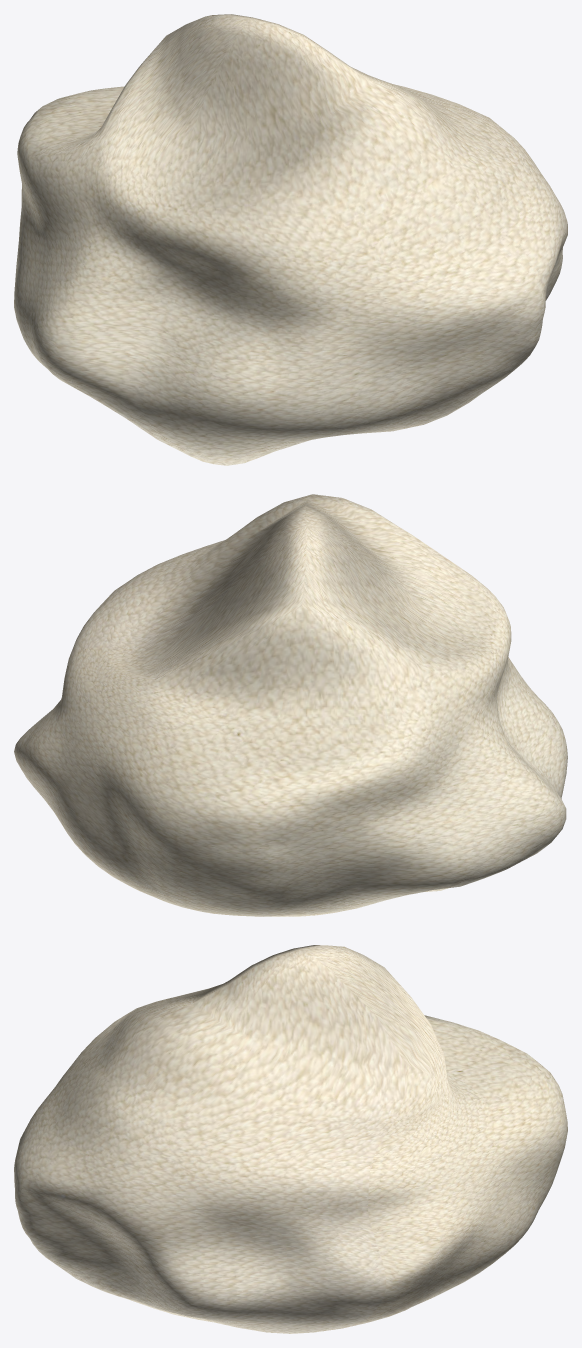
3 views of the same model, one above another, from view 1: azimuth 30°, elevation 25°; view 2: azimuth 150°, elevation 25°; view 3: azimuth 270°, elevation 25° (orthographic). The views are drawn at different scales.
Parts seen in each view (by area): view 1: mian qiu; view 2: mian qiu; view 3: mian qiu.
Part boxes in pixels (left/top/right/bottom): mian qiu: left=14, top=14, right=567, bottom=465; mian qiu: left=14, top=494, right=567, bottom=916; mian qiu: left=14, top=945, right=567, bottom=1333.
Bounding box in the file's own units: 0.8764 × 0.6734 × 0.9658.
1 material, 1 textured.
